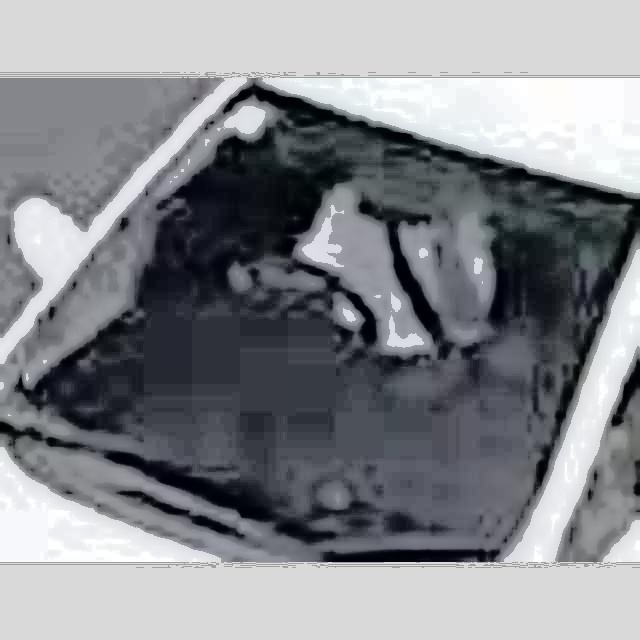pakai: (281, 150, 490, 377)
